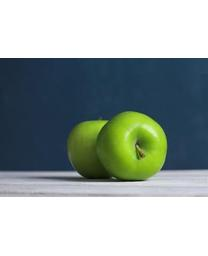apple: (95, 110, 166, 180), (66, 118, 109, 180)
